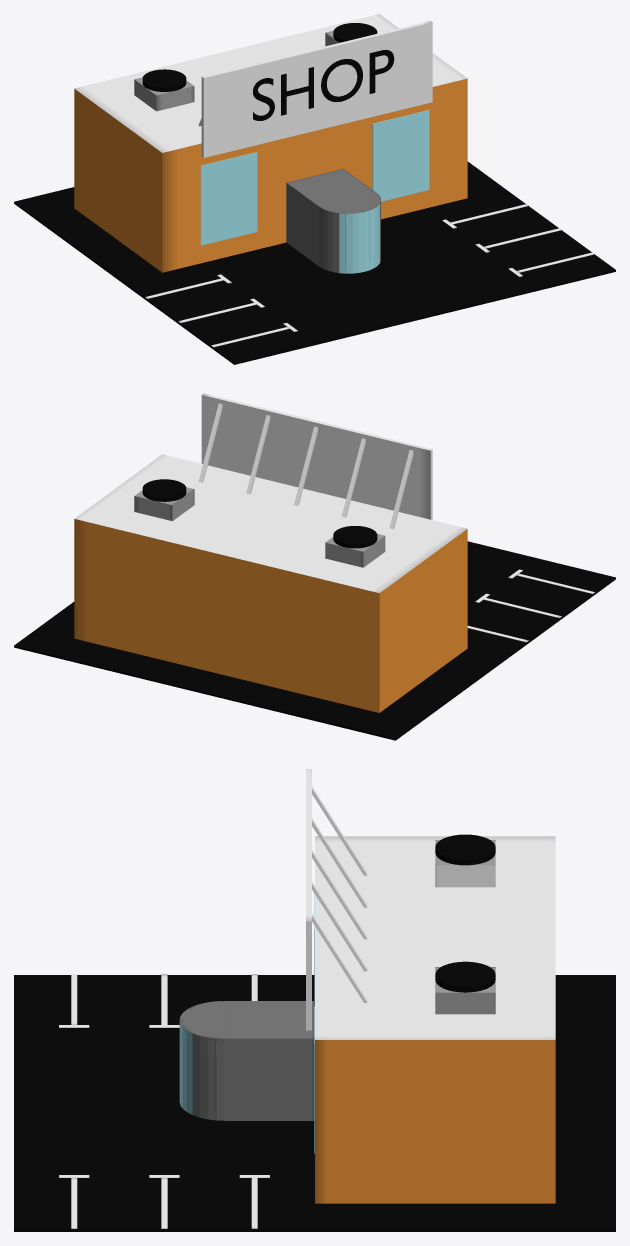
Rendered from shop.gltf.
3 renders of one model, top to bottom at view 1: azimuth 30°, elevation 25°; view 2: azimuth 150°, elevation 25°; view 3: azimuth 270°, elevation 25°, orthographic. The views are drawn at different scales.
Parts seen in each view (by area): view 1: Cube; view 2: Cube; view 3: Cube.
Part boxes in pixels (x1,y1,x2,y2): Cube: (14,14,615,364); Cube: (14,393,615,740); Cube: (14,769,615,1231).
Size of the model in its own units: 20 by 9.51 by 20.
2 materials, 2 textured.
